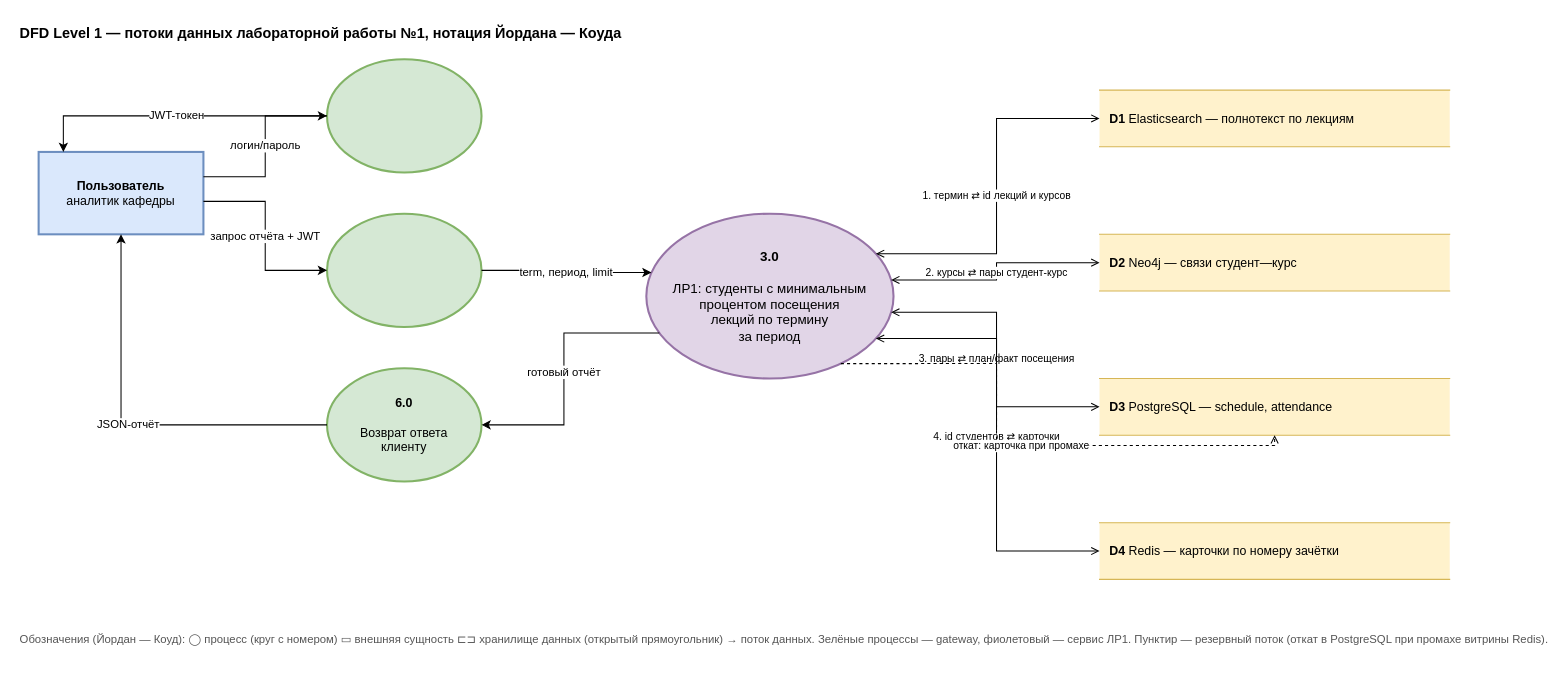
This 1566x699 diagram has some shape labels left out. The shapes that lost their labels are listed below. From the top down, each one's centre as x and y in pixels, then its label:
At pixel 403 115: "1.0 Аутентификация (JWT, gateway)".
At pixel 403 270: "2.0 Валидация и маршрутизация запроса".
